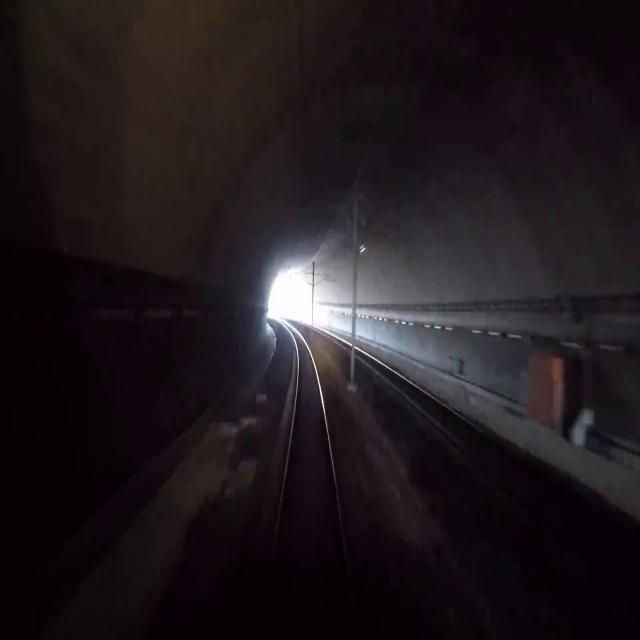rail-track: (354, 350, 640, 564), (264, 328, 351, 639), (316, 330, 351, 350)
